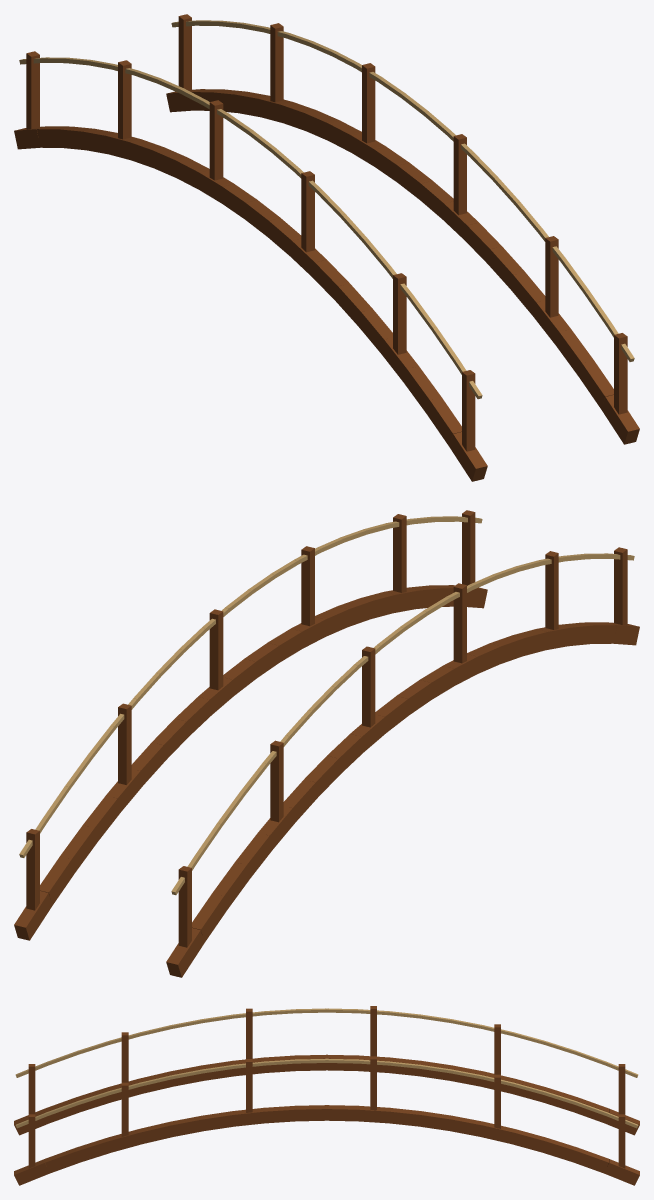
The model's file is FIX_BRIDGE_ARCH_20_02.obj.
3 renders of one model, top to bottom at view 1: azimuth 30°, elevation 25°; view 2: azimuth 150°, elevation 25°; view 3: azimuth 270°, elevation 25°, orthographic. The views are drawn at different scales.
Visible parts, largest first — view 1: Part_40, Part_58, Part_55, Part_37, Part_73, Part_22, Part_19, Part_76, Part_87, Part_4, Part_90, Part_1 (+23 smaller); view 2: Part_37, Part_40, Part_19, Part_22, Part_55, Part_58, Part_73, Part_76, Part_1, Part_90, Part_4, Part_87 (+24 smaller); view 3: Part_28, Part_14, Part_64, Part_6, Part_50, Part_10, Part_68, Part_78, Part_82, Part_46, Part_32, Part_24 (+40 smaller).
Boxes of the visible parts, x1,y1,x2,y2 form: Part_40: (209,100,223,180); Part_58: (301,171,314,252); Part_55: (453,134,466,215); Part_37: (362,63,375,143); Part_73: (545,236,558,317); Part_22: (118,60,131,139); Part_19: (270,23,283,102); Part_76: (393,273,406,354); Part_87: (614,333,627,414); Part_4: (26,51,39,129); Part_90: (462,370,475,451); Part_1: (178,14,191,90); Part_37: (209,609,223,690); Part_40: (362,646,375,727); Part_19: (118,703,131,784); Part_22: (270,740,283,822); Part_55: (301,546,314,626); Part_58: (453,583,466,663); Part_73: (393,514,406,592); Part_76: (545,551,558,629); Part_1: (26,829,39,910); Part_90: (614,547,627,625); Part_4: (178,866,191,947); Part_87: (462,510,475,585); Part_28: (418,1111,453,1131); Part_14: (511,1129,546,1152); Part_64: (169,1116,204,1137); Part_6: (573,1147,608,1173); Part_50: (263,1105,297,1123); Part_10: (542,1137,577,1162); Part_68: (138,1121,172,1144); Part_78: (76,1137,111,1162); Part_82: (45,1147,80,1173); Part_46: (294,1105,328,1121); Part_32: (387,1107,421,1126); Part_24: (449,1116,484,1136).
Bounding box in the file's own units: 2.48 × 2.69 × 12.1.
